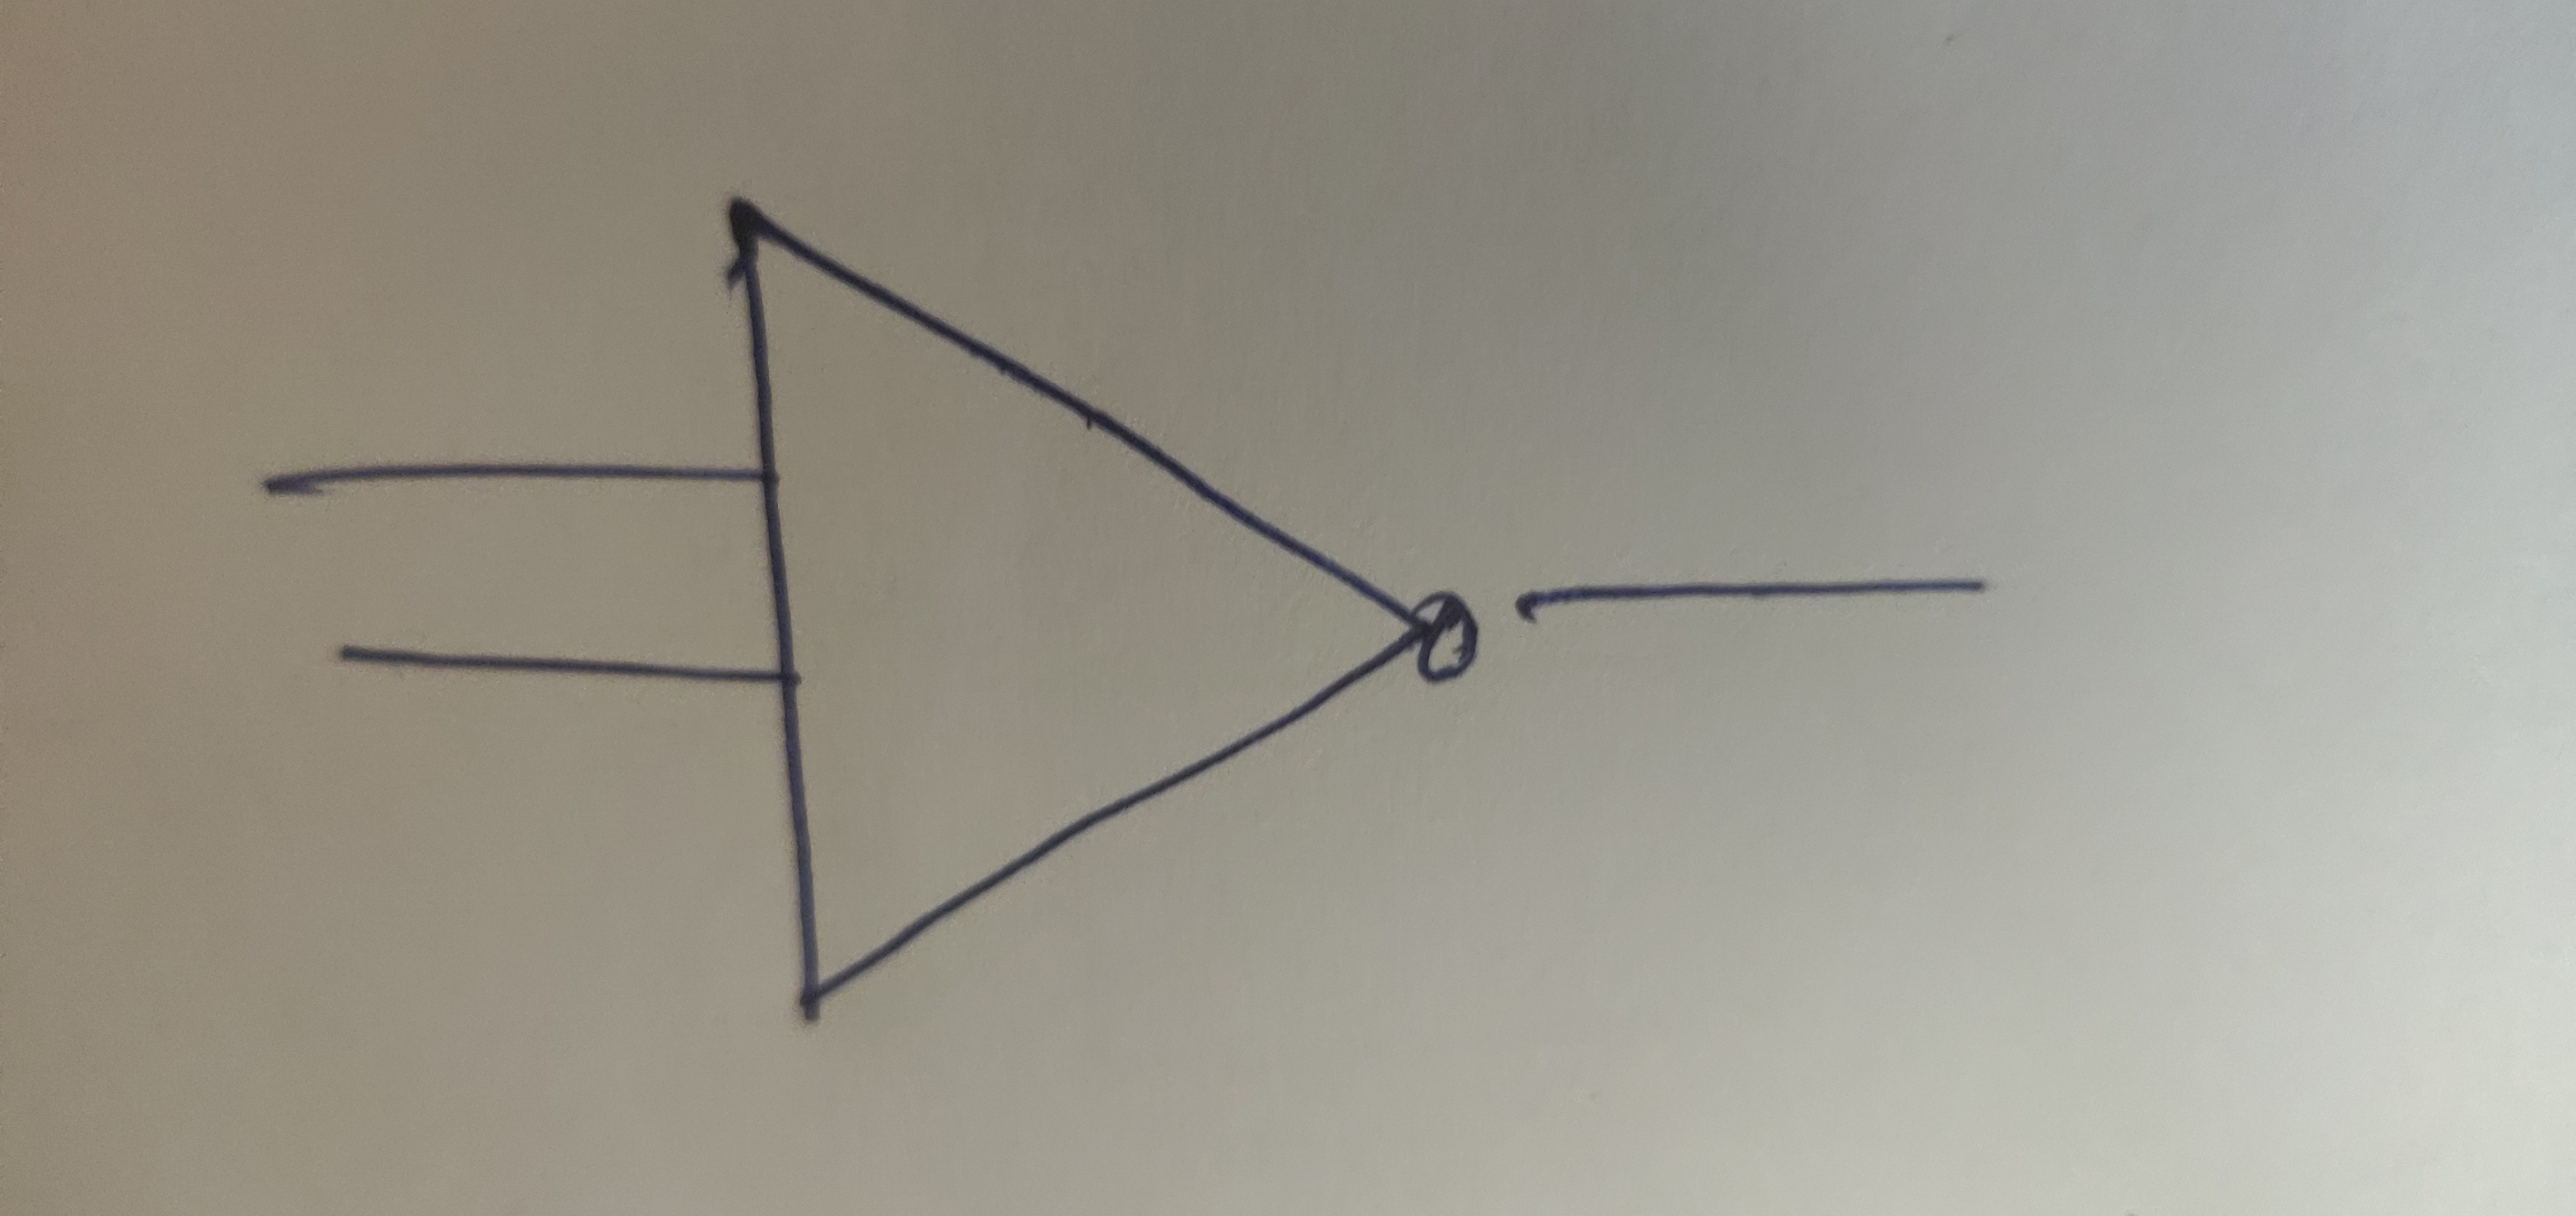not: (642, 122, 1633, 1098)
